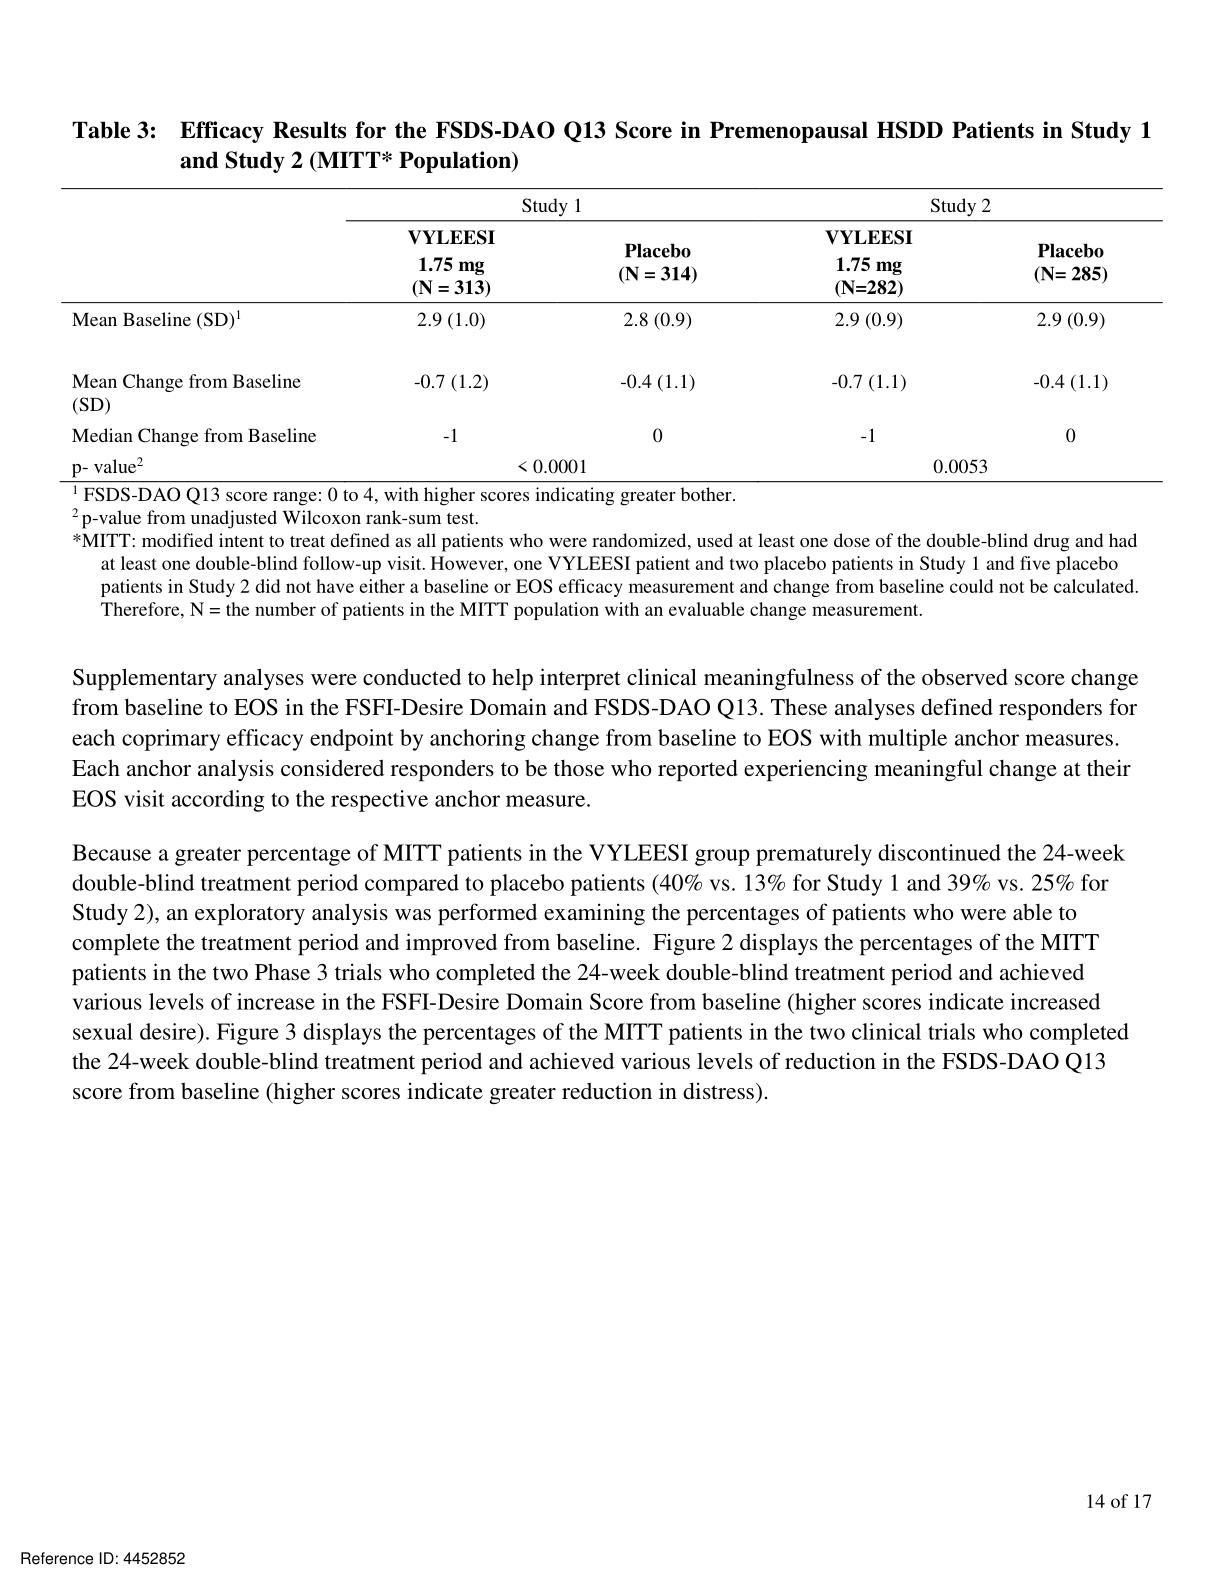partial_lined_merged_cells: (59, 183, 1165, 485)
